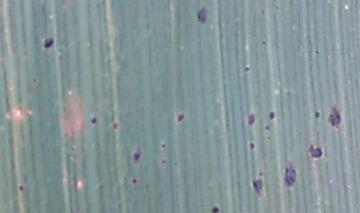tarspot: (325, 103, 342, 130), (283, 158, 297, 187), (307, 143, 324, 160), (195, 4, 208, 24), (251, 177, 263, 196), (40, 35, 54, 51), (131, 149, 142, 164), (245, 111, 256, 126), (246, 140, 257, 151), (174, 113, 185, 123), (267, 109, 276, 121), (209, 204, 220, 213), (89, 115, 98, 126), (312, 109, 320, 120), (111, 121, 120, 130), (159, 140, 167, 150), (17, 183, 25, 192), (30, 75, 38, 84), (130, 177, 138, 185), (243, 65, 251, 73), (265, 134, 273, 142), (263, 124, 271, 132), (172, 159, 180, 167), (304, 1, 312, 9), (260, 38, 267, 46), (273, 4, 280, 12), (160, 158, 167, 166), (260, 8, 266, 17), (257, 170, 264, 177), (313, 48, 319, 55), (288, 1, 295, 6)
